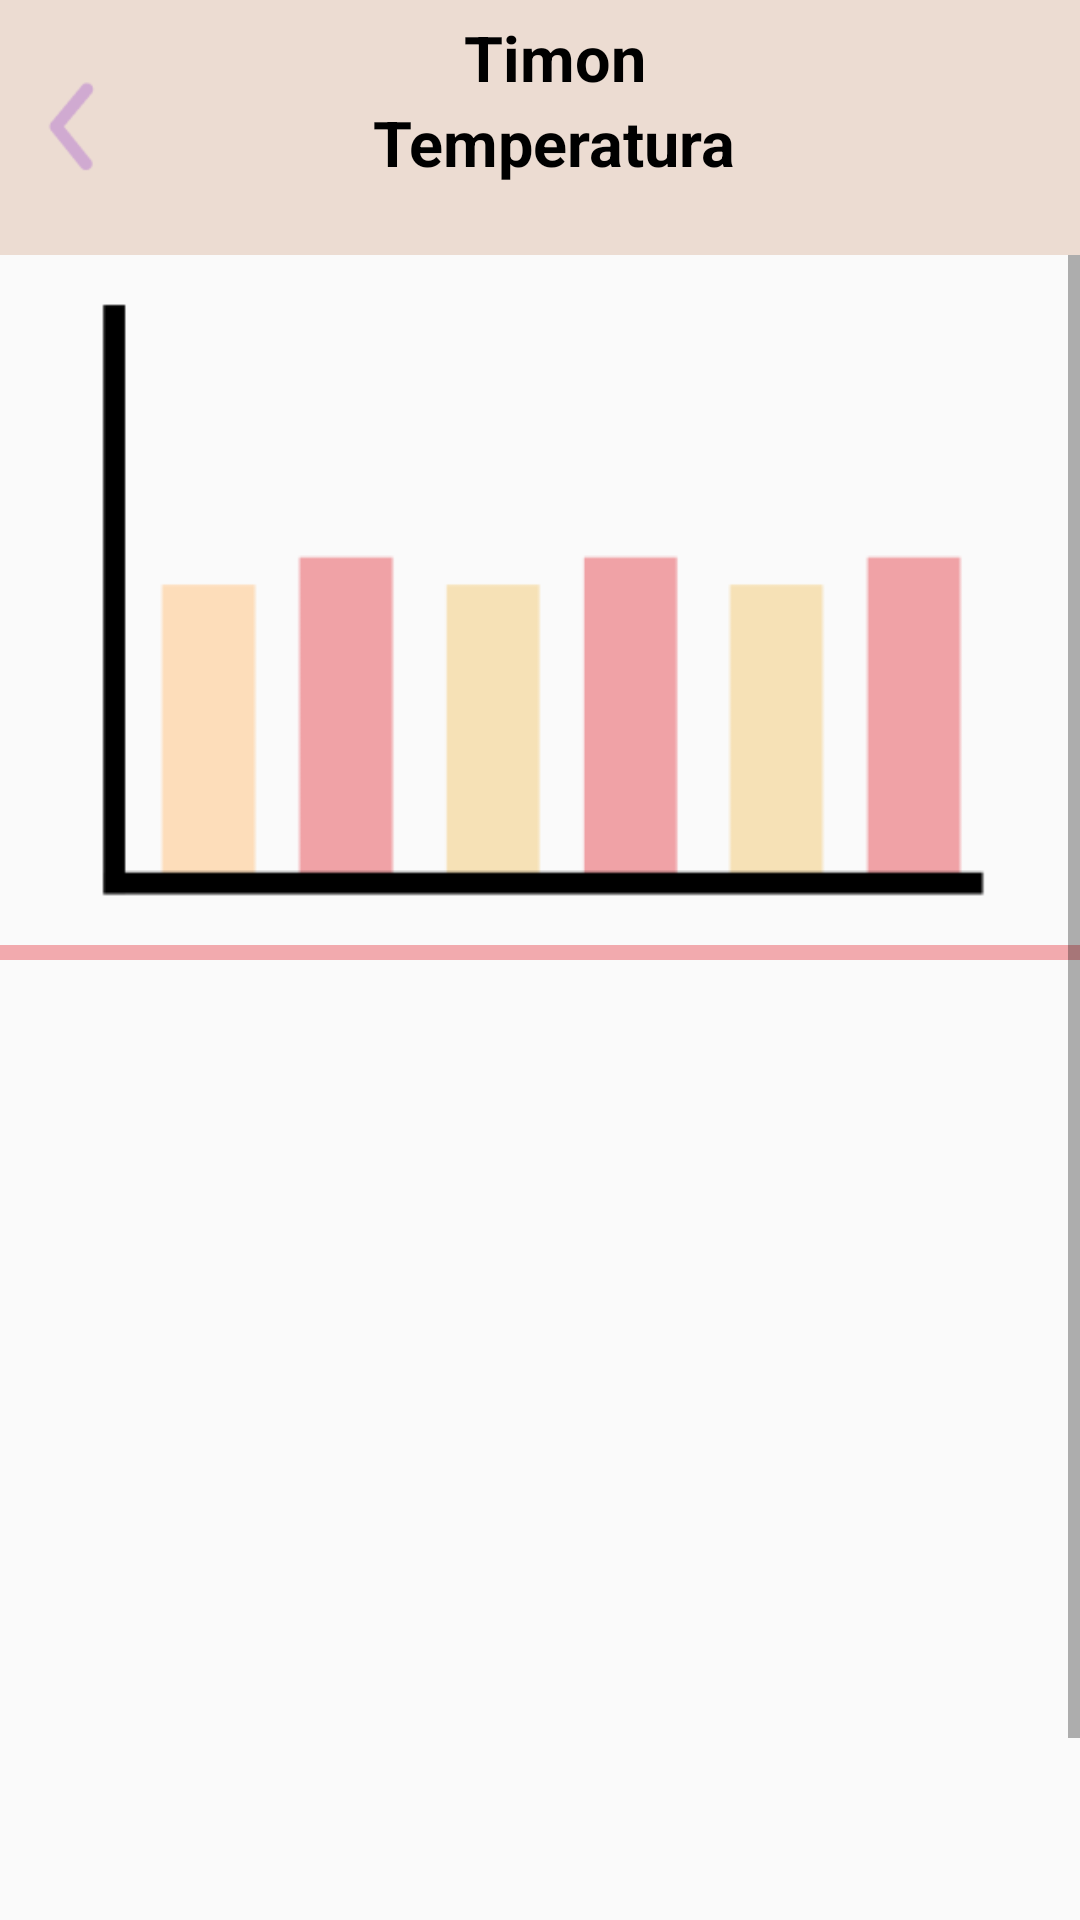

Screen size 1080*1920. Icon name, then its box in pixels as (x1, y1, x2, y2):
back: (50, 83, 93, 170)
